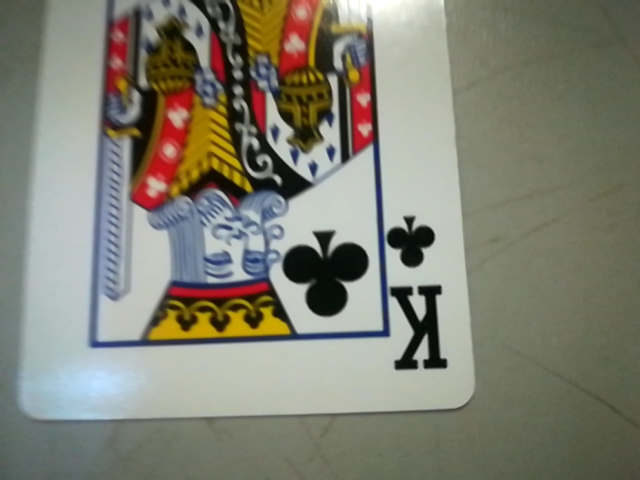mh k: (373, 203, 463, 387)
